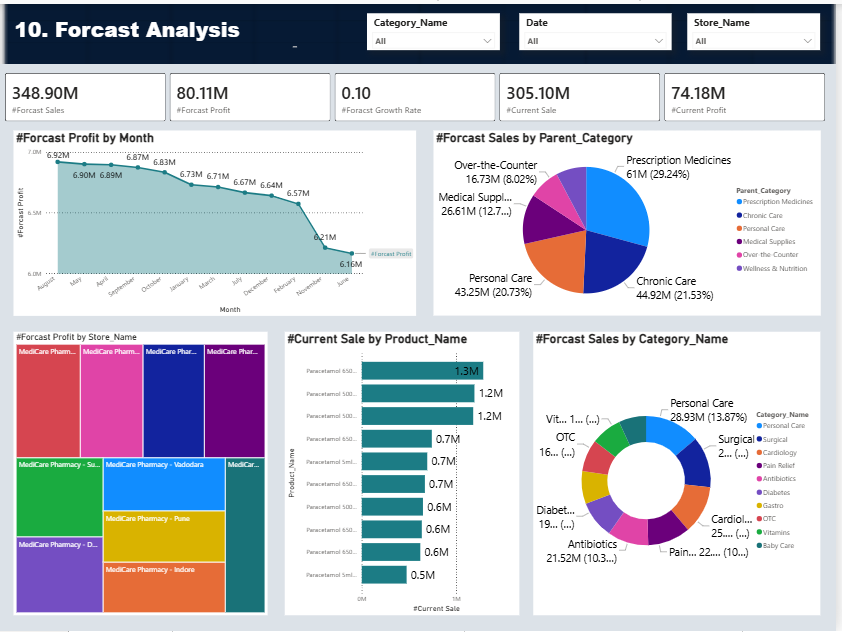

The page's visual inventory and layout, read from the dashboard file:
{"tool":"powerbi","page":{"name":"10. Forcast Analysis ","canvas":[1600,1200],"ordinal":10},"visuals":[{"type":"image","box":[0,0,1600,120],"z":0},{"type":"textbox","title":"10. Forcast Analysis","box":[30,26.7,548.3,66.7],"z":1000},{"type":"slicer","fields":{"Values":["Dim_Date_Clean.Date"]},"box":[996.7,23.3,290,70],"z":2000},{"type":"slicer","fields":{"Values":["Dim_Store.Store_Name"]},"box":[1316.7,23.3,253.3,70],"z":3000},{"type":"cardVisual","fields":{"Data":["Fact_Sales_Clean (1).#Forcast Sales","Fact_Sales_Clean (1).#Forcast Profit","Fact_Sales_Clean (1).#Foracst Growth Rate","Fact_Sales_Clean (1).#Current Sale","Fact_Sales_Clean (1).#Current Profit"]},"box":[0,120,1600,126.7],"z":4000},{"type":"slicer","fields":{"Values":["Dim_Category.Category_Name"]},"box":[706.7,23.3,253.3,70],"z":5000},{"type":"areaChart","fields":{"Category":["Dim_Date_Clean.Month"],"Y":["Fact_Sales_Clean (1).#Forcast Profit"]},"box":[33.3,246.7,766.7,353.3],"z":6000},{"type":"pieChart","fields":{"Category":["Dim_Category.Parent_Category"],"Y":["Fact_Sales_Clean (1).#Forcast Sales"]},"box":[832.5,247.5,737.5,352.5],"z":7000},{"type":"treemap","fields":{"Group":["Dim_Store.Store_Name"],"Values":["Fact_Sales_Clean (1).#Forcast Profit"]},"box":[33,630,484,540],"z":8000},{"type":"clusteredBarChart","fields":{"Category":["Dim_Product.Product_Name"],"Y":["Fact_Sales_Clean (1).#Current Sale"]},"box":[550,630,446.7,540],"z":9000},{"type":"donutChart","fields":{"Category":["Dim_Category.Category_Name"],"Y":["Fact_Sales_Clean (1).#Forcast Sales"]},"box":[1023.3,630,546.7,540],"z":10000}]}

Visuals, with their boxes in screenshot pixels (x1, y1, x2, y2), scaled from the page's 1600x1200 canvas onto the 842x632 screenshot:
image: (0,0,841,63)
"10. Forcast Analysis" textbox: (16,14,304,49)
slicer - Dim_Date_Clean.Date: (525,12,677,49)
slicer - Dim_Store.Store_Name: (693,12,826,49)
cardVisual - Fact_Sales_Clean (1).#Forcast Sales x Fact_Sales_Clean (1).#Forcast Profit: (0,63,841,130)
slicer - Dim_Category.Category_Name: (372,12,505,49)
areaChart - Dim_Date_Clean.Month x Fact_Sales_Clean (1).#Forcast Profit: (18,130,421,316)
pieChart - Dim_Category.Parent_Category x Fact_Sales_Clean (1).#Forcast Sales: (438,130,826,316)
treemap - Dim_Store.Store_Name x Fact_Sales_Clean (1).#Forcast Profit: (17,332,272,616)
clusteredBarChart - Dim_Product.Product_Name x Fact_Sales_Clean (1).#Current Sale: (289,332,525,616)
donutChart - Dim_Category.Category_Name x Fact_Sales_Clean (1).#Forcast Sales: (539,332,826,616)
